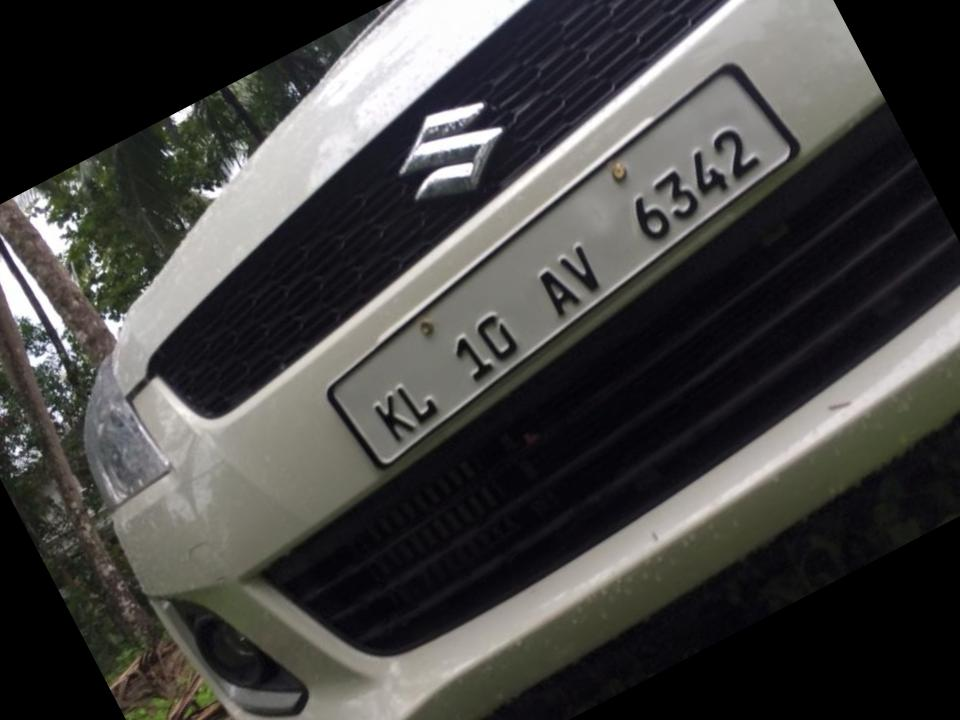plate: (296, 105, 848, 465)
